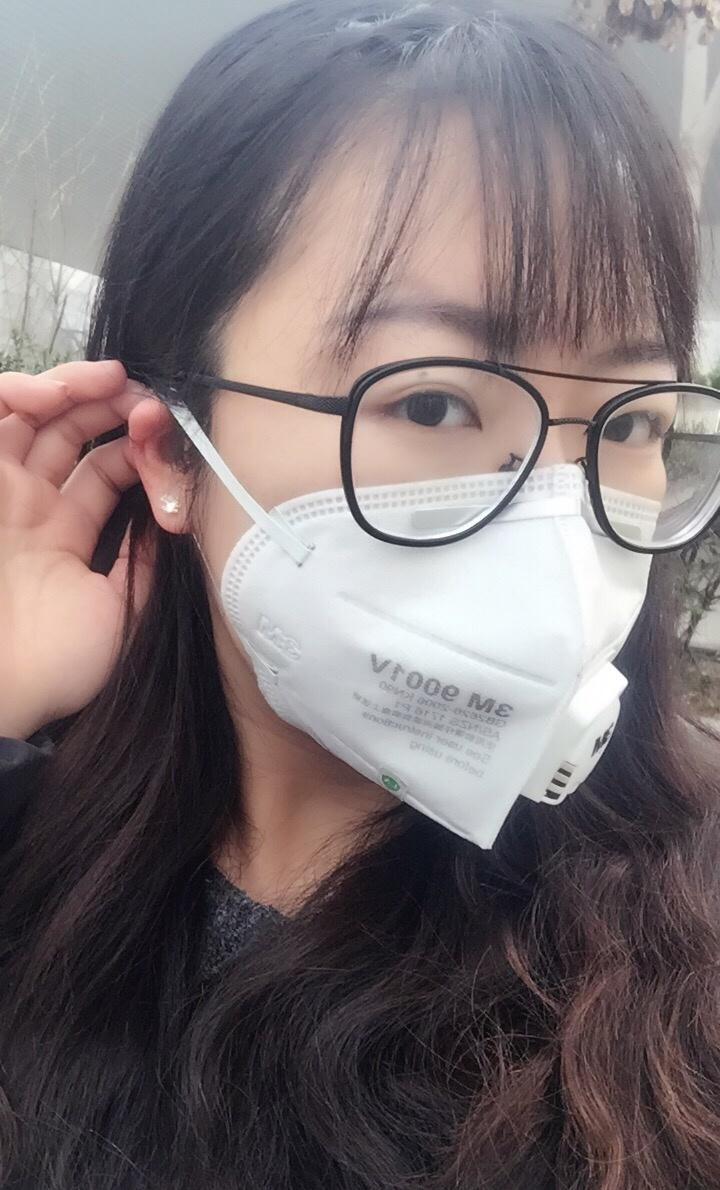OK: (157, 254, 705, 802)
